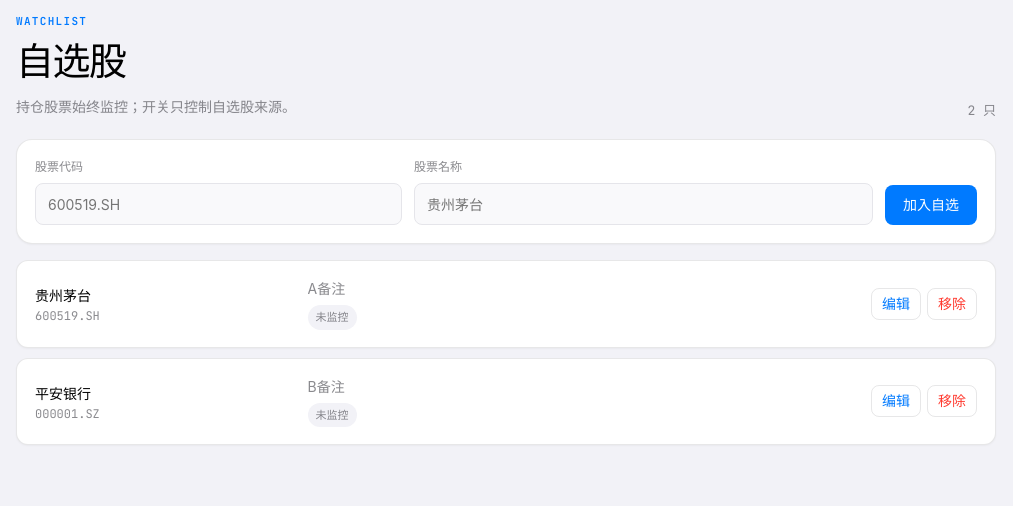
WatchlistPage › does not close stock B draft when stock A save returns
Check: the text "贵州茅台" is shown, box x1=35 y1=287 x2=91 y2=304
Click the button with aria-label "编辑 贵州茅台".
click(896, 304)  # box x1=871 y1=288 x2=921 y2=320
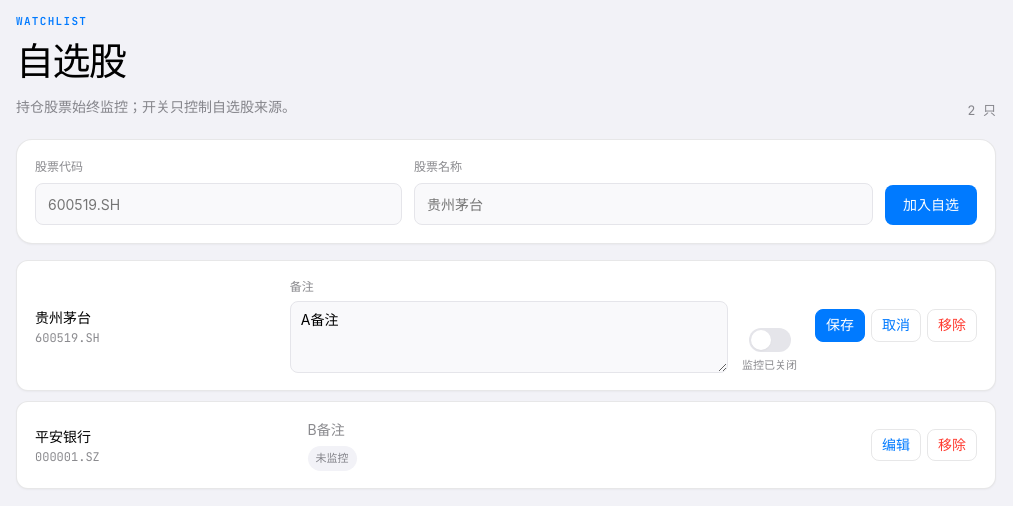
Click the button with aria-label "保存 贵州茅台".
click(840, 326)  # box x1=815 y1=310 x2=865 y2=342
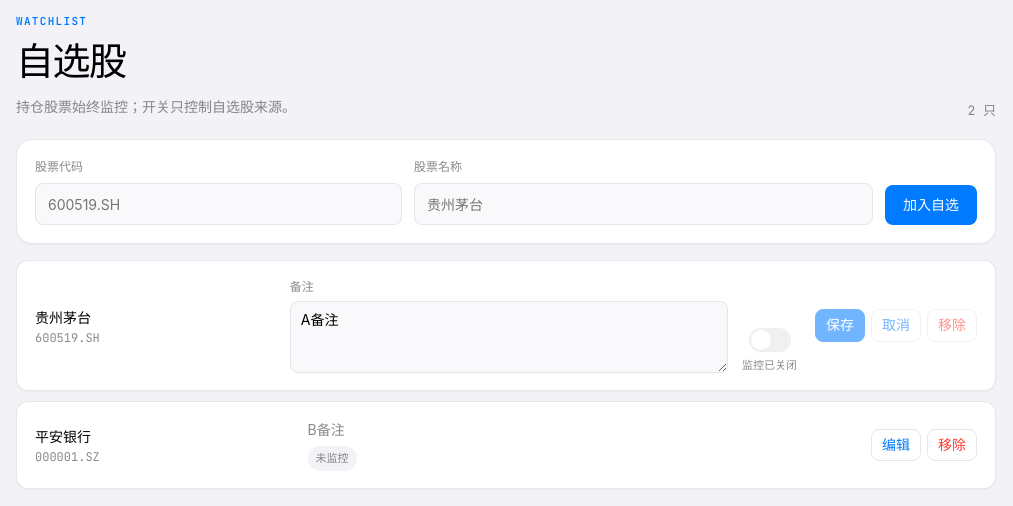
Click the button with aria-label "编辑 平安银行".
click(896, 445)  # box x1=871 y1=429 x2=921 y2=461
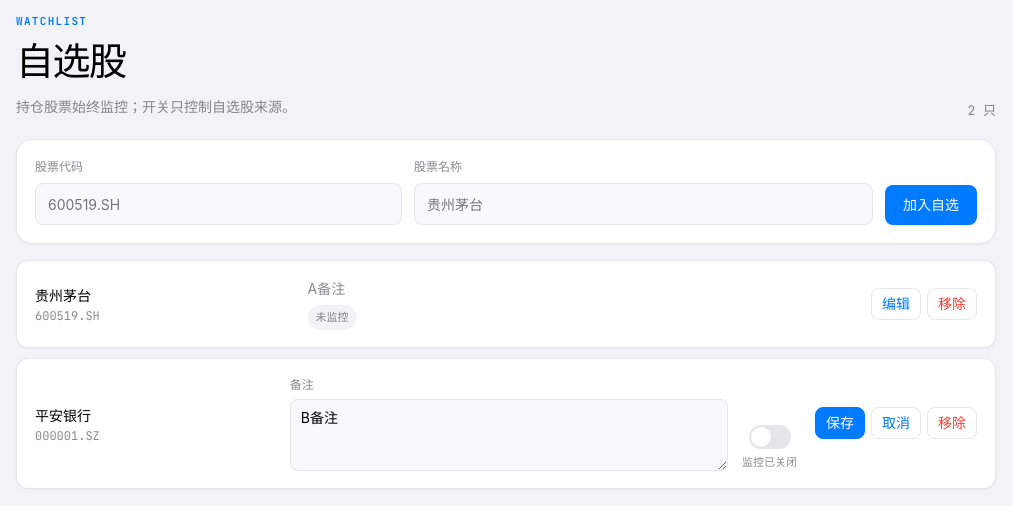
Check: the text box named "平安银行备注" holds "B备注", box x1=290 y1=398 x2=728 y2=470
